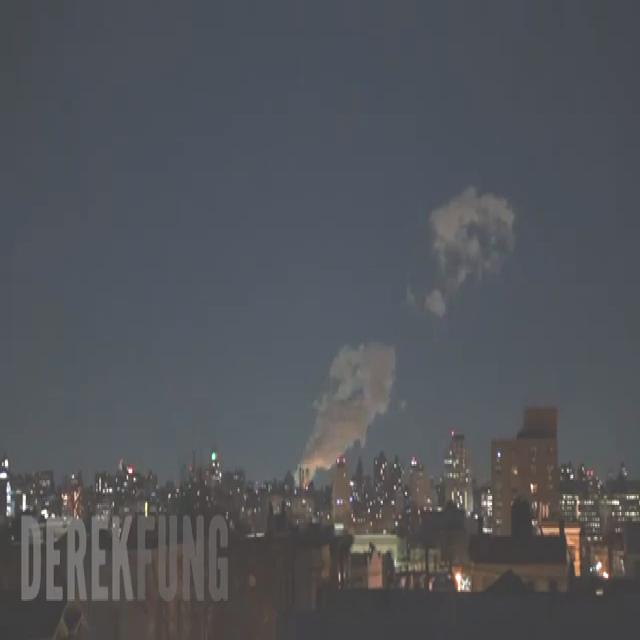smoke: (293, 343, 396, 480)
